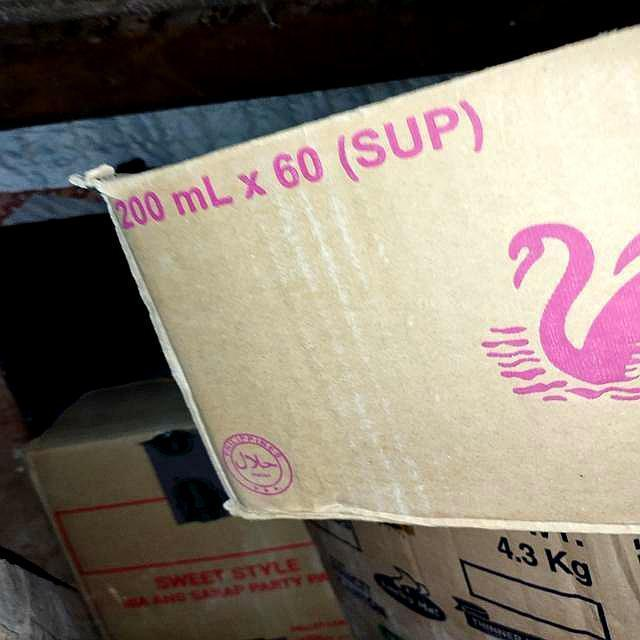Biodegradable: (82, 22, 640, 540), (33, 381, 640, 640)
